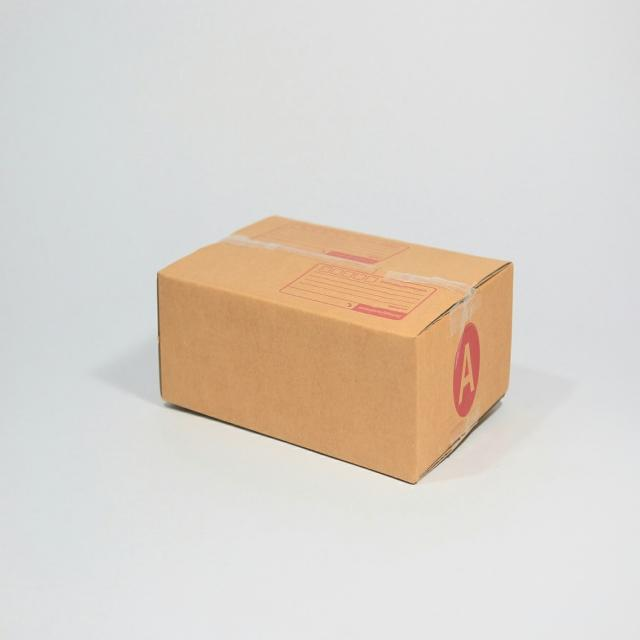box: (143, 198, 536, 509)
